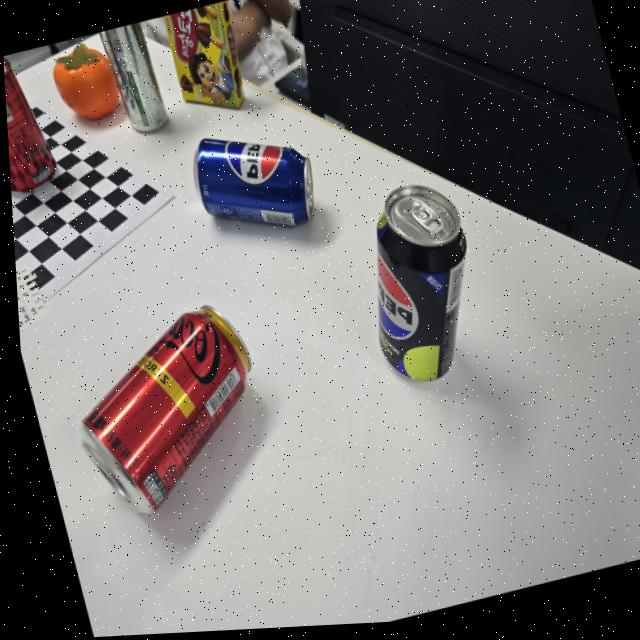can_coke_decaf: (79, 303, 253, 515)
can_pepsi: (194, 138, 316, 226)
can_pepsi_zero: (377, 184, 466, 380)
